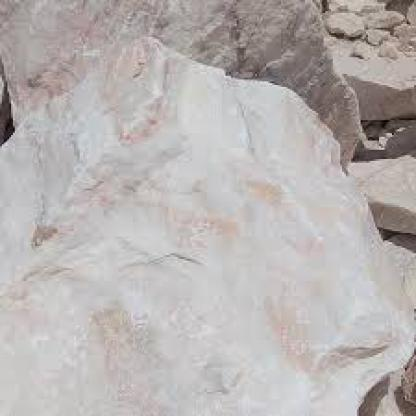Metamorphic_Marble: (2, 28, 414, 414)
